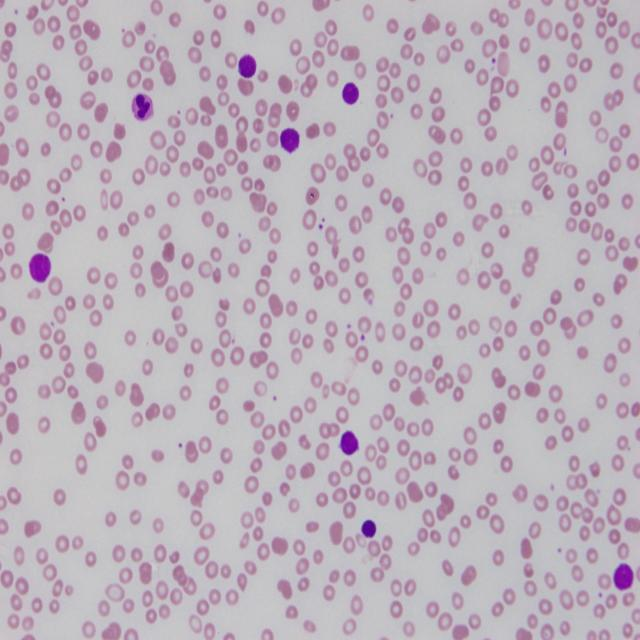cell: (29, 253, 51, 282), (614, 563, 634, 590), (280, 128, 300, 152), (340, 432, 359, 455), (238, 55, 256, 78), (342, 82, 359, 105), (361, 520, 376, 538)
